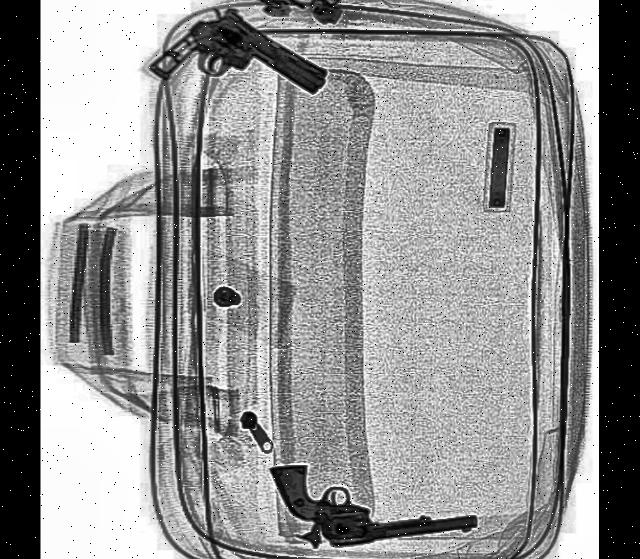Gun: (149, 0, 330, 155), (268, 444, 478, 558)
